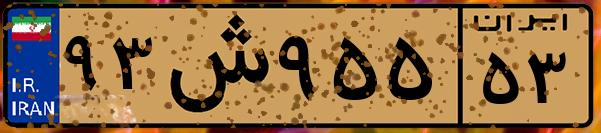3: (525, 38, 570, 115), (110, 28, 158, 98)
5: (385, 28, 445, 110), (330, 28, 385, 110), (475, 38, 525, 113)
9: (270, 28, 330, 110), (57, 26, 110, 100)
ش: (158, 12, 270, 120)
